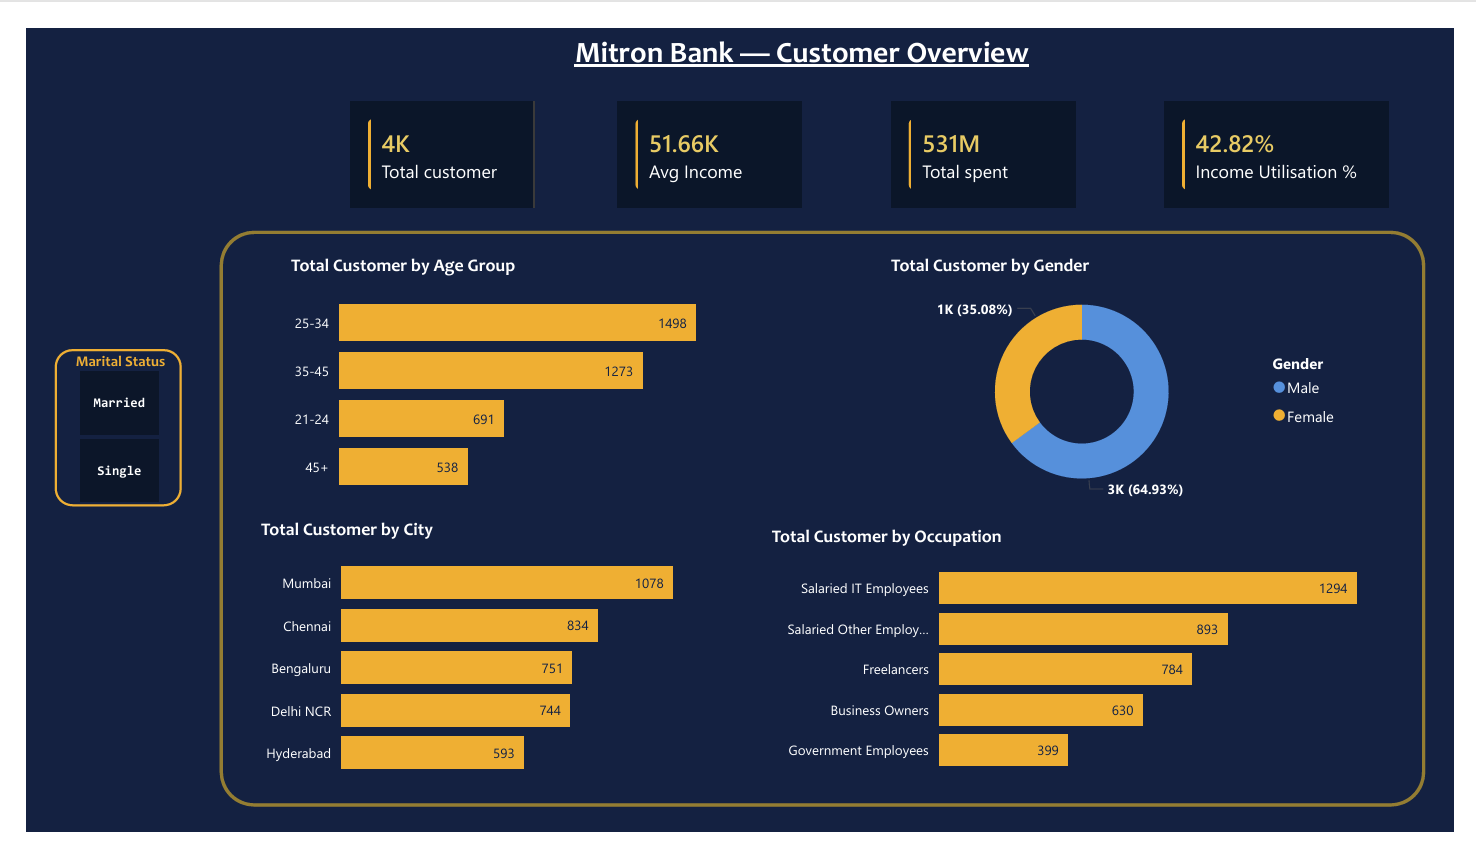

The page's visual inventory and layout, read from the dashboard file:
{"tool":"powerbi","page":{"name":"Customer Overview","canvas":[1280,720],"ordinal":1},"visuals":[{"type":"shape","box":[172.9,181.2,1080.7,515.5],"z":0},{"type":"cardVisual","fields":{"Data":["_measures.Total customer"]},"box":[290,65,164.6,95.2],"z":1000},{"type":"cardVisual","fields":{"Data":["_measures.Avg_income"]},"box":[530,65,165,95],"z":2000},{"type":"cardVisual","fields":{"Data":["_measures.Total spent"]},"box":[775,65,165,95],"z":3000},{"type":"cardVisual","fields":{"Data":["_measures.Income Utilisation %"]},"box":[1020,65,201,95.2],"z":4000},{"type":"clusteredBarChart","title":"Total Customer by Age Group","fields":{"Category":["dim_customers.age_group"],"Y":["_measures.Total customer"]},"box":[237.1,201.9,402.7,225.7],"z":5000},{"type":"clusteredBarChart","title":"Total Customer by Occupation","fields":{"Category":["dim_customers.occupation"],"Y":["_measures.Total customer"]},"box":[667.7,445.1,558,230.8],"z":6000},{"type":"barChart","title":"Total Customer by City","fields":{"Category":["dim_customers.city"],"Y":["_measures.Total customer"]},"box":[210.1,438.9,402.7,241.2],"z":7000},{"type":"donutChart","title":"Total Customer by Gender","fields":{"Category":["dim_customers.gender"],"Y":["_measures.Total customer"]},"box":[775.3,201.9,407.9,225.7],"z":8000},{"type":"slicer","title":"Marital Status","fields":{"Values":["dim_customers.marital status"]},"box":[24.8,286.7,113.9,140.8],"z":9000},{"type":"textbox","box":[471,0,448.2,54.9],"z":10000}]}

Visuals, with their boxes in screenshot pixels (x1, y1, x2, y2), scaled from the page's 1280x720 canvas onto the 1476x855 screenshot:
shape: crop(199, 215, 1446, 827)
cardVisual - _measures.Total customer: crop(334, 77, 524, 190)
cardVisual - _measures.Avg_income: crop(611, 77, 801, 190)
cardVisual - _measures.Total spent: crop(894, 77, 1084, 190)
cardVisual - _measures.Income Utilisation %: crop(1176, 77, 1408, 190)
"Total Customer by Age Group" clusteredBarChart: crop(273, 240, 738, 508)
"Total Customer by Occupation" clusteredBarChart: crop(770, 529, 1413, 803)
"Total Customer by City" barChart: crop(242, 521, 707, 808)
"Total Customer by Gender" donutChart: crop(894, 240, 1364, 508)
"Marital Status" slicer: crop(29, 340, 160, 508)
textbox: crop(543, 0, 1060, 65)
